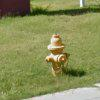Hydrant: (43, 24, 71, 82)
